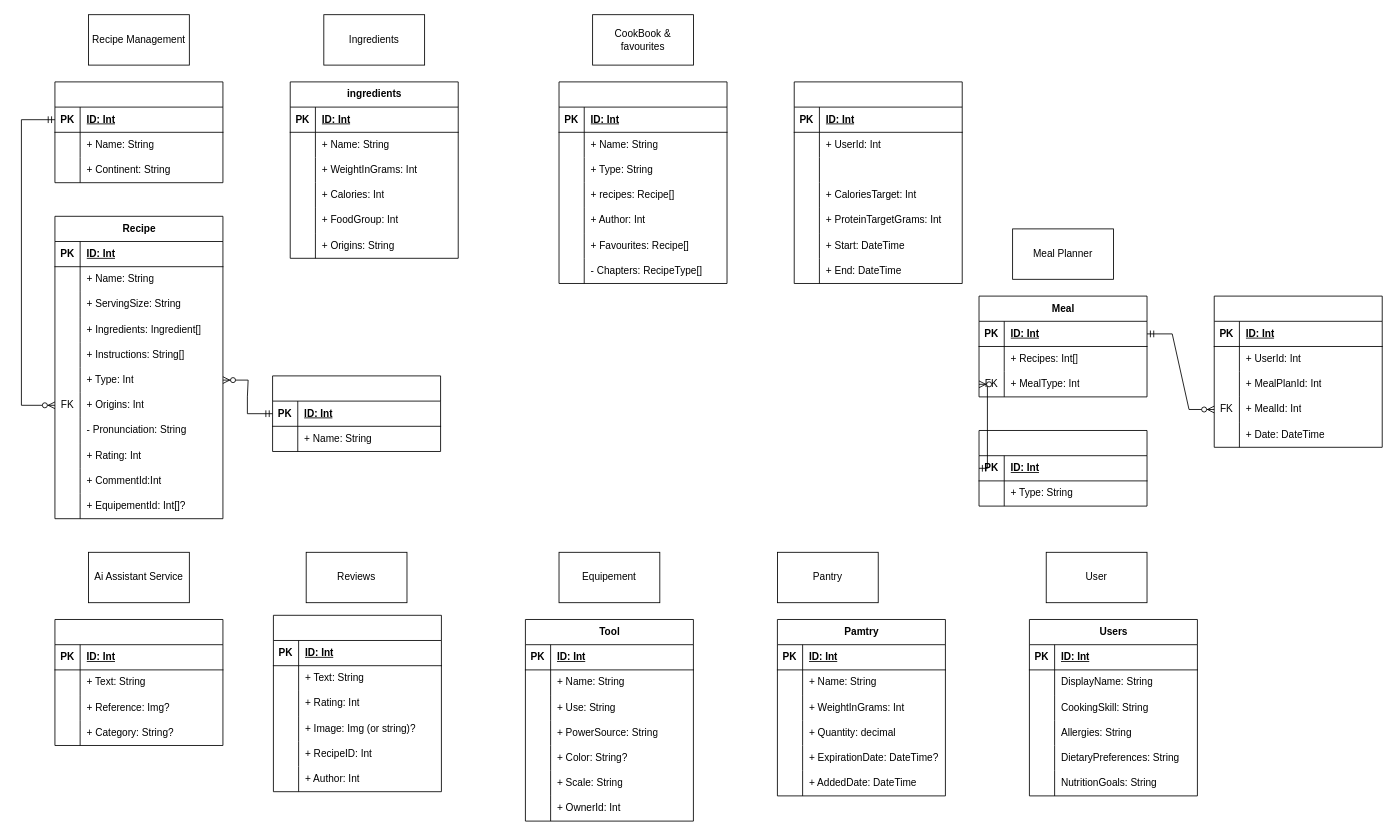
Some shapes in this 1397 by 836 pixel diagram are drawn without their labels. Each missing label, with the box of its shape:
Comment: (273, 614, 441, 792)
CookBook: (558, 81, 727, 284)
Country: (54, 81, 223, 183)
MealPlans: (793, 81, 962, 284)
MealSlots: (1213, 295, 1382, 447)
MealType: (978, 430, 1147, 506)
Prompt: (54, 619, 223, 746)
RecipeType: (272, 375, 441, 452)
